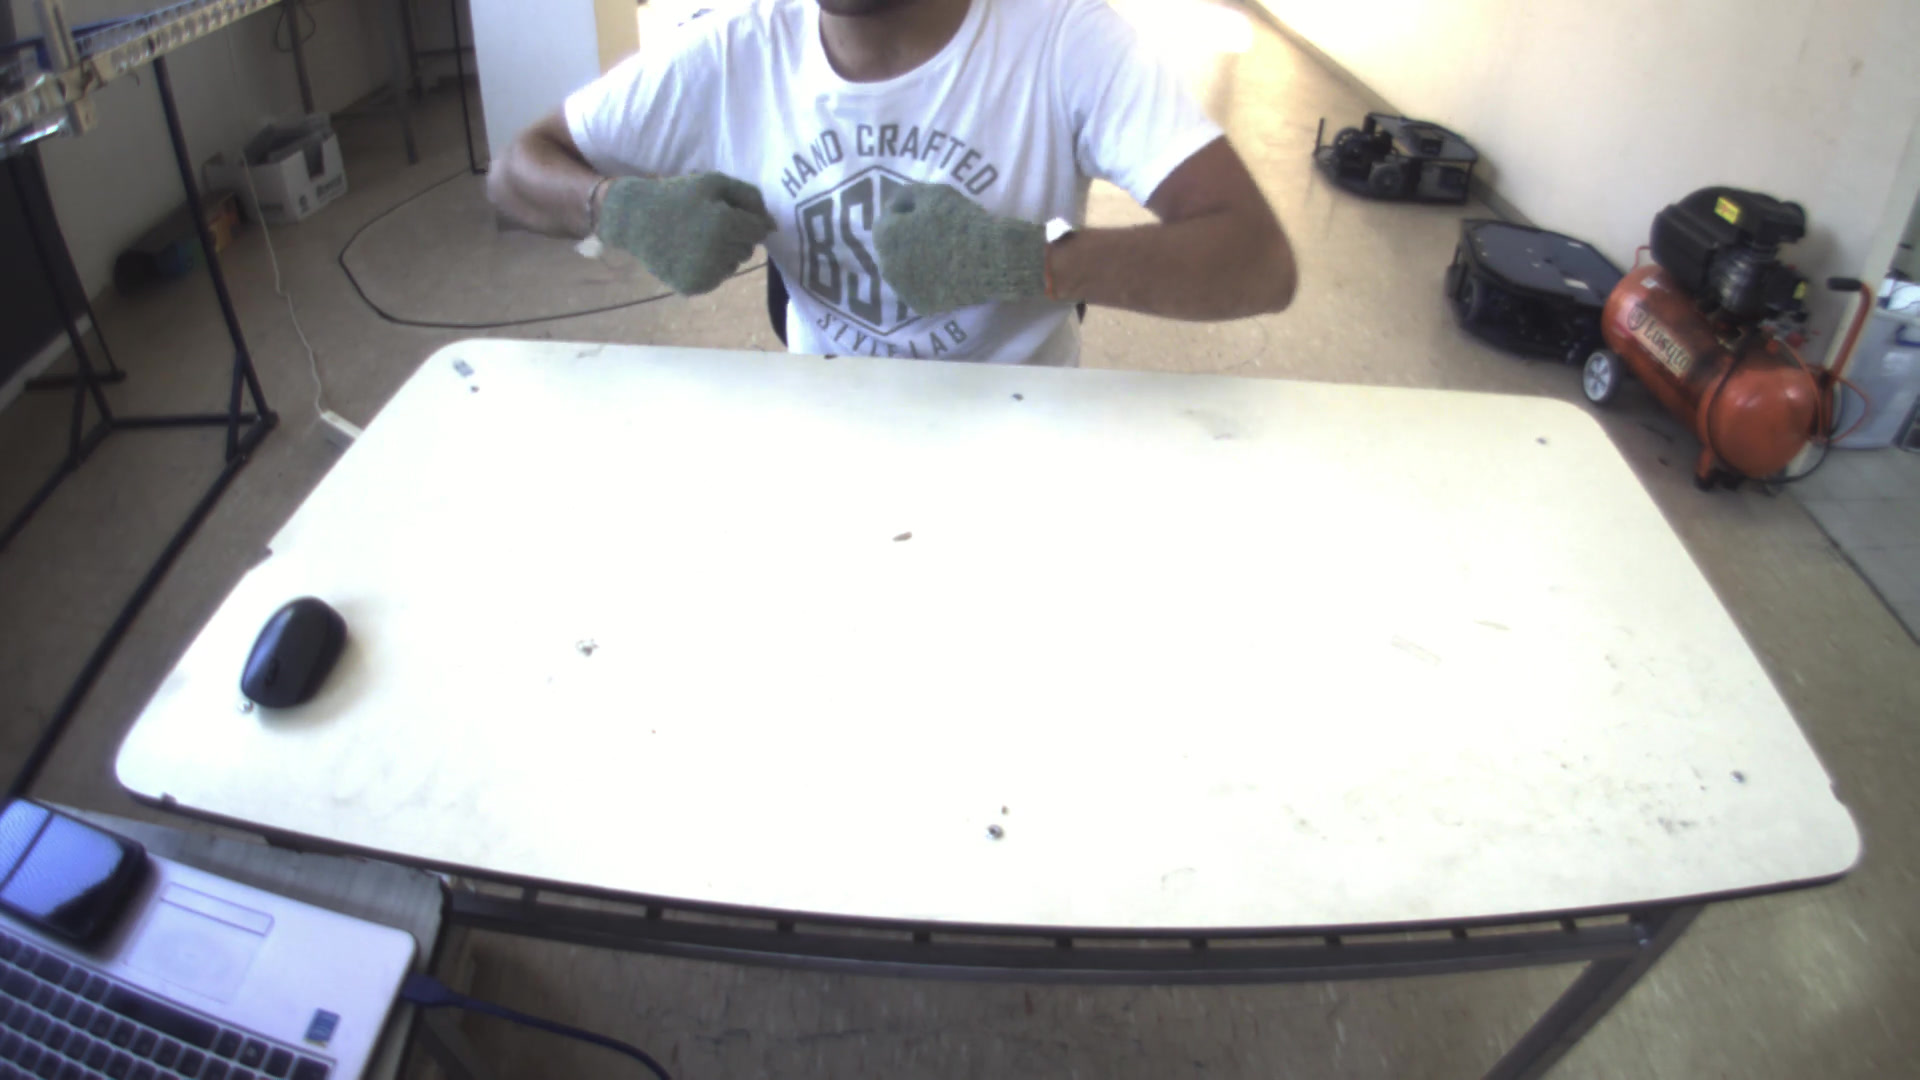hand: (576, 156, 785, 297), (864, 178, 1051, 306)
